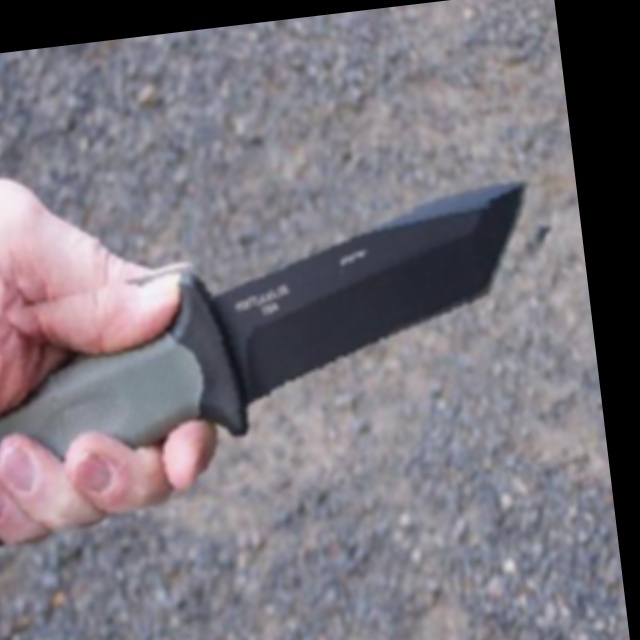Sharp-Object: (0, 191, 582, 530)
